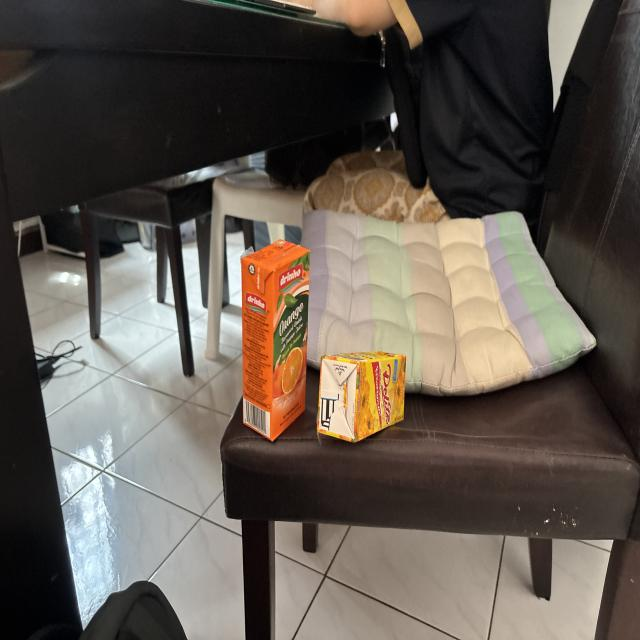drink_carton: (236, 233, 312, 447), (312, 342, 412, 448)
